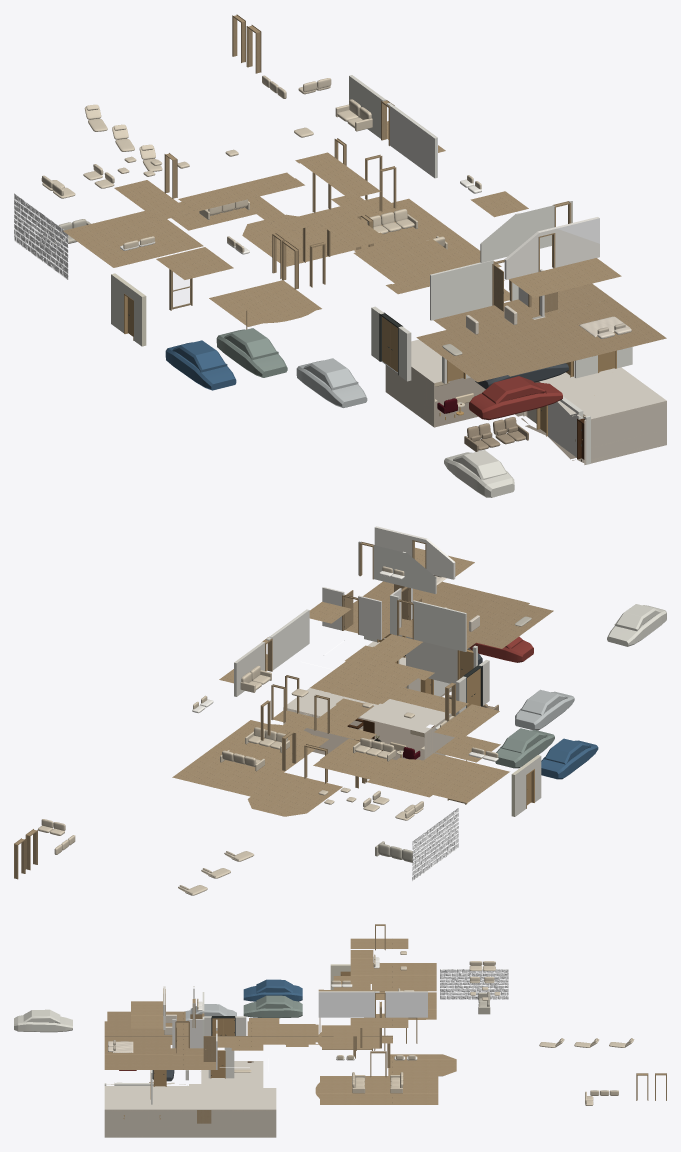
Rendered from compact-furnishings.glb.
3 views of the same model, one above another, from view 1: azimuth 30°, elevation 25°; view 2: azimuth 150°, elevation 25°; view 3: azimuth 270°, elevation 25° (orthographic). The views are drawn at different scales.
Parts seen in each view (by area): view 1: Bedroom 02 | floor 0, Formal 01 | wide oak floor, Bar 01 | ivory ceiling lining, Terrace suites | west bedroom oak floor, Bar detail | panelling south back bar cream wall lining, Proposal | Wing dormer south cheek, Office 01 | continuous oak floor, Proposal | Principal suite north partition pier 0, Landings 01 | continuous oak landing floor.002, Landings 01 | continuous oak landing floor, Proposal | Loft ensuite north wall pier 0, Loftsuite 01 | hip store oak floor (+26 smaller); view 2: Formal 01 | wide oak floor, Bedroom 02 | floor 0, Terrace suites | west bedroom oak floor, Bar 01 | ivory ceiling lining, Proposal | Principal suite north partition pier 0, Terrace suites | lounge oak floor, Landings 01 | continuous oak landing floor, Proposal | Loft ensuite north wall pier 0, Proposal | Wing dormer south cheek, Bar 01 | limestone floor finish, Proposal | Garage north store separation end pier, Proposal | Loft passage east wall end pier (+22 smaller); view 3: Bar 01 | ivory ceiling lining, Bar detail | panelling east bar and games cream wall lining, Formal 01 | wide oak floor, Bedroom 02 | floor 0, Terrace suites | west bedroom oak floor, Proposal | Loft passage east wall cladding end pier, Proposal | Original loft dormer east cheek pier 0, Landings 01 | continuous oak landing floor.002, Landings 01 | continuous oak landing floor, Loftsuite 01 | hip store oak floor, Hobby 01 | archive oak floor, Ensuite 01 | dressing oak floor (+15 smaller).
Part boxes in pixels (box(x1,y1,x2,y2)): Bedroom 02 | floor 0: box(433, 299, 666, 376); Formal 01 | wide oak floor: box(242, 198, 501, 267); Bar 01 | ivory ceiling lining: box(411, 316, 666, 420); Terrace suites | west bedroom oak floor: box(63, 211, 203, 267); Bar detail | panelling south back bar cream wall lining: box(584, 401, 666, 464); Proposal | Wing dormer south cheek: box(504, 217, 599, 279); Office 01 | continuous oak floor: box(209, 280, 321, 326); Proposal | Principal suite north partition pier 0: box(430, 260, 493, 320); Landings 01 | continuous oak landing floor.002: box(353, 235, 460, 282); Landings 01 | continuous oak landing floor: box(271, 196, 396, 248); Proposal | Loft ensuite north wall pier 0: box(480, 205, 554, 262); Loftsuite 01 | hip store oak floor: box(508, 258, 621, 297); Formal 01 | wide oak floor: box(172, 720, 342, 816); Bedroom 02 | floor 0: box(353, 581, 529, 649); Terrace suites | west bedroom oak floor: box(391, 753, 509, 802); Bar 01 | ivory ceiling lining: box(287, 641, 450, 733); Proposal | Principal suite north partition pier 0: box(413, 600, 466, 651); Terrace suites | lounge oak floor: box(313, 738, 413, 783); Landings 01 | continuous oak landing floor: box(273, 701, 376, 740); Proposal | Loft ensuite north wall pier 0: box(373, 545, 436, 594); Proposal | Wing dormer south cheek: box(374, 526, 455, 579); Bar 01 | limestone floor finish: box(304, 686, 451, 760); Proposal | Garage north store separation end pier: box(406, 636, 457, 683); Proposal | Loft passage east wall end pier: box(267, 609, 309, 670); Bar 01 | ivory ceiling lining: box(104, 1061, 276, 1109); Bar detail | panelling east bar and games cream wall lining: box(104, 1109, 276, 1137); Formal 01 | wide oak floor: box(315, 1054, 456, 1104); Bedroom 02 | floor 0: box(104, 1021, 188, 1069); Terrace suites | west bedroom oak floor: box(372, 963, 436, 991); Proposal | Loft passage east wall cladding end pier: box(318, 992, 379, 1017); Proposal | Original loft dormer east cheek pier 0: box(385, 991, 427, 1017); Landings 01 | continuous oak landing floor.002: box(263, 1024, 318, 1044); Landings 01 | continuous oak landing floor: box(321, 1014, 392, 1048); Loftsuite 01 | hip store oak floor: box(131, 1001, 163, 1028); Hobby 01 | archive oak floor: box(350, 950, 373, 984); Ensuite 01 | dressing oak floor: box(173, 1048, 215, 1069).
Size of the model in its own units: 21.47 by 10.44 by 48.7.
104 materials, 31 textured.
